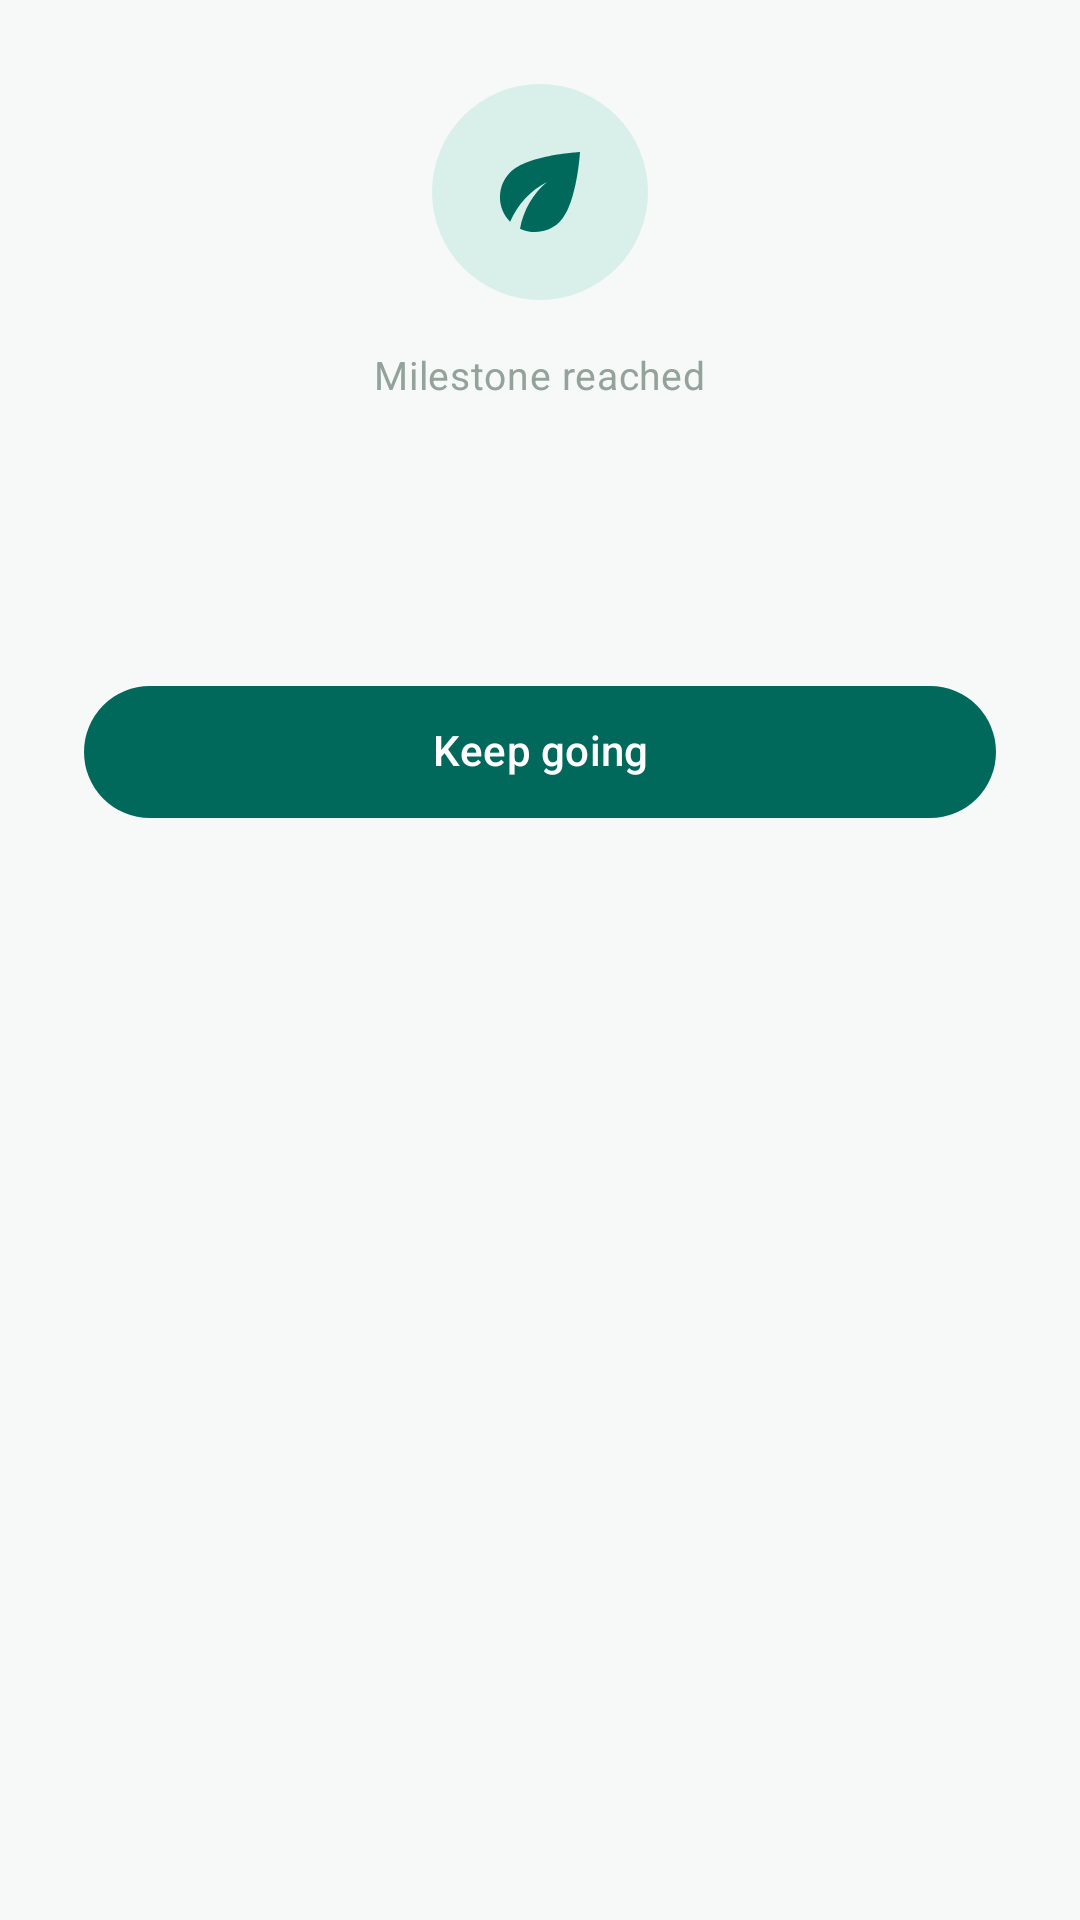

Icon click points for this 1080×1920 phone screenshot, format (x,y):
Badge earned: (540,192)
